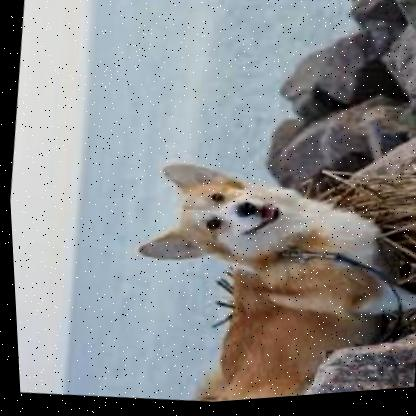dog: (114, 138, 416, 408)
